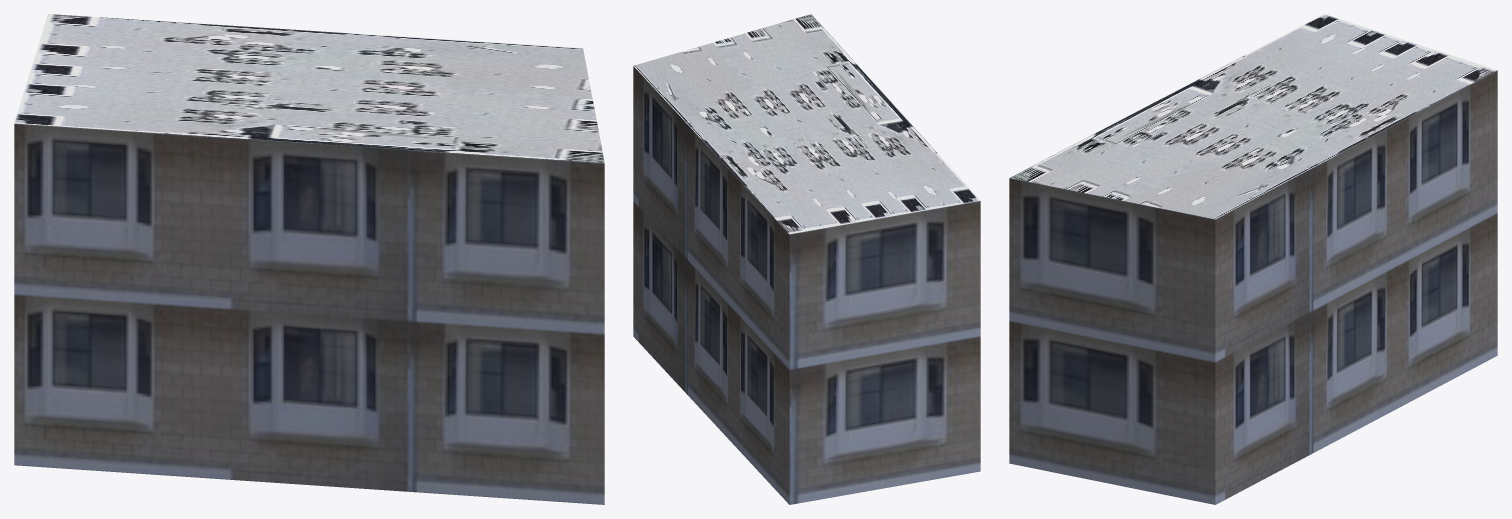
Rendered from ResTex__2183.fbx.
3 views of the same model, side by side, from view 1: azimuth 30°, elevation 25°; view 2: azimuth 150°, elevation 25°; view 3: azimuth 270°, elevation 25° (orthographic). The views are drawn at different scales.
Visible parts, largest first — view 1: CityEngineMaterial_3_m, CityEngineMaterial_4_m; view 2: CityEngineMaterial_3_m, CityEngineMaterial_4_m; view 3: CityEngineMaterial_3_m, CityEngineMaterial_4_m.
Boxes of the visible parts, box(x1,y1,x2,y2) form: CityEngineMaterial_3_m: box(14, 123, 604, 504); CityEngineMaterial_4_m: box(14, 14, 604, 163); CityEngineMaterial_3_m: box(633, 66, 980, 504); CityEngineMaterial_4_m: box(633, 14, 980, 234); CityEngineMaterial_3_m: box(1009, 70, 1497, 504); CityEngineMaterial_4_m: box(1010, 14, 1497, 219).
Size of the model in its own units: 9.26 by 6 by 9.29.
2 materials, 2 textured.
